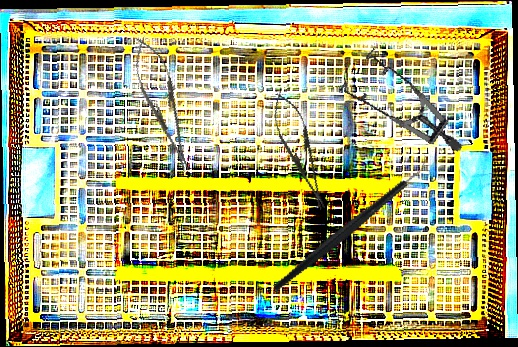Chopper: (248, 152, 452, 293)
Needle Holder: (124, 32, 202, 178), (263, 87, 337, 215)
Speculum: (329, 31, 464, 184)
